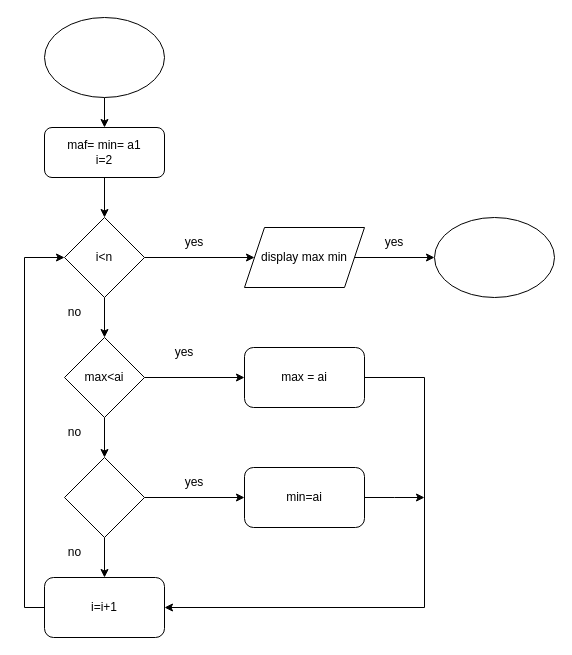
Some shapes in this 572 by 655 pixel diagram are drawn without their labels. Here are the shapes that lost their labels. From the top down, the centre of each, then its label:
At [104,57]: "begin".
At [494,257]: "end".
At [104,497]: "min>ai".
